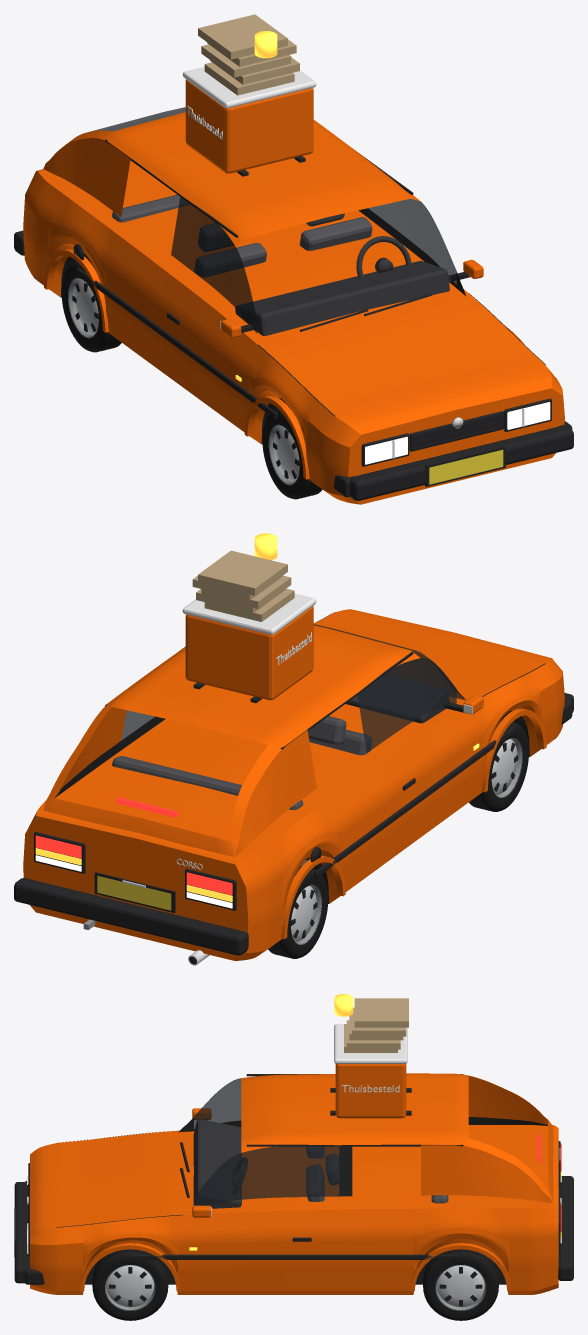
Rendered from corso.glb.
3 renders of one model, top to bottom at view 1: azimuth 30°, elevation 25°; view 2: azimuth 150°, elevation 25°; view 3: azimuth 270°, elevation 25°, orthographic. The views are drawn at different scales.
Parts seen in each view (by area): view 1: cabin_roof, hood, tub, nose, door_R, quarter_R, roofbox, cabin_glass, dash, fender_R, bumper_front, wheel_FR (+21 smaller); view 2: cabin_roof, tub, tail, door_R, quarter_R, roofbox, hood, bumper_rear, cabin_glass, fender_R, dash, wheel_RR (+20 smaller); view 3: cabin_roof, tub, door_L, quarter_L, hood, cabin_glass, fender_L, wheel_RL, wheel_FL, roofbox, dash, nose (+15 smaller).
Boxes of the visible parts, <box> form: cabin_roof: <box>43,112,419,246</box>; hood: <box>259,293,544,416</box>; tub: <box>45,160,468,344</box>; nose: <box>322,365,564,504</box>; door_R: <box>145,265,257,432</box>; quarter_R: <box>32,180,158,360</box>; roofbox: <box>185,79,313,173</box>; cabin_glass: <box>89,107,456,333</box>; dash: <box>235,261,449,335</box>; fender_R: <box>245,346,335,496</box>; bumper_front: <box>350,425,573,500</box>; wheel_FR: <box>262,407,322,499</box>; cabin_roof: <box>43,625,420,857</box>; tub: <box>55,700,463,851</box>; tail: <box>23,801,267,960</box>; door_R: <box>369,711,481,866</box>; quarter_R: <box>255,771,382,956</box>; roofbox: <box>185,606,313,700</box>; hood: <box>314,612,544,703</box>; bumper_rear: <box>14,878,248,955</box>; cabin_glass: <box>121,624,465,752</box>; fender_R: <box>473,664,558,793</box>; dash: <box>345,674,448,723</box>; wheel_RR: <box>268,866,328,958</box>; cabin_roof: <box>241,1073,553,1203</box>; tub: <box>183,1125,534,1214</box>; door_L: <box>183,1209,347,1294</box>; quarter_L: <box>347,1208,534,1294</box>; hood: <box>56,1130,183,1226</box>; cabin_glass: <box>194,1078,339,1205</box>; fender_L: <box>56,1215,183,1294</box>; wheel_RL: <box>423,1249,498,1320</box>; wheel_FL: <box>92,1249,168,1320</box>; roofbox: <box>335,1064,406,1118</box>; dash: <box>193,1119,241,1208</box>; nose: <box>30,1143,56,1294</box>.
Size of the model in its own units: 1.78 by 2.27 by 4.13.
